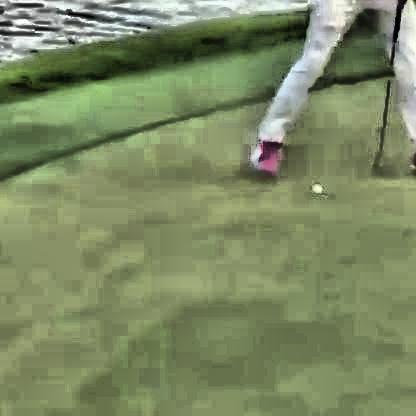golfball: (308, 180, 319, 191)
